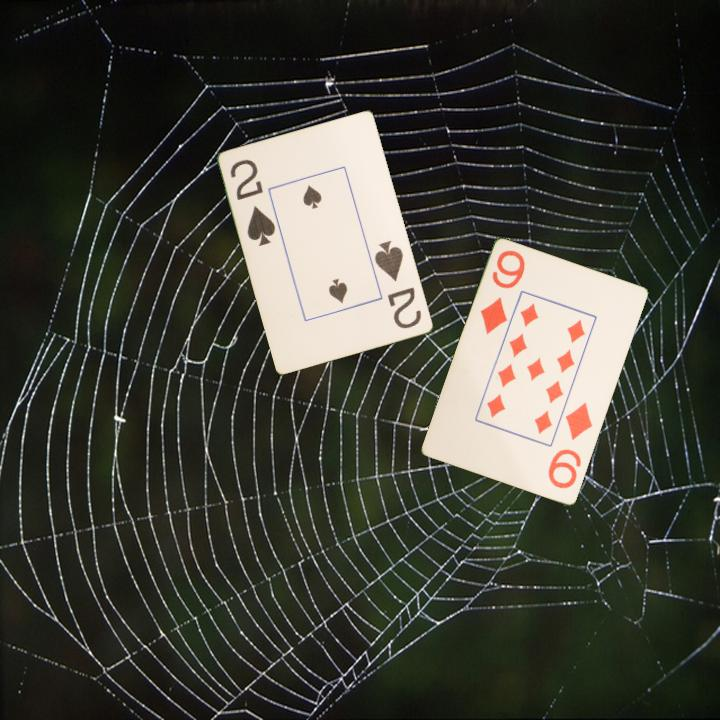2s: (371, 237, 425, 332), (227, 156, 279, 249)
9d: (545, 399, 596, 492), (476, 247, 528, 338)
